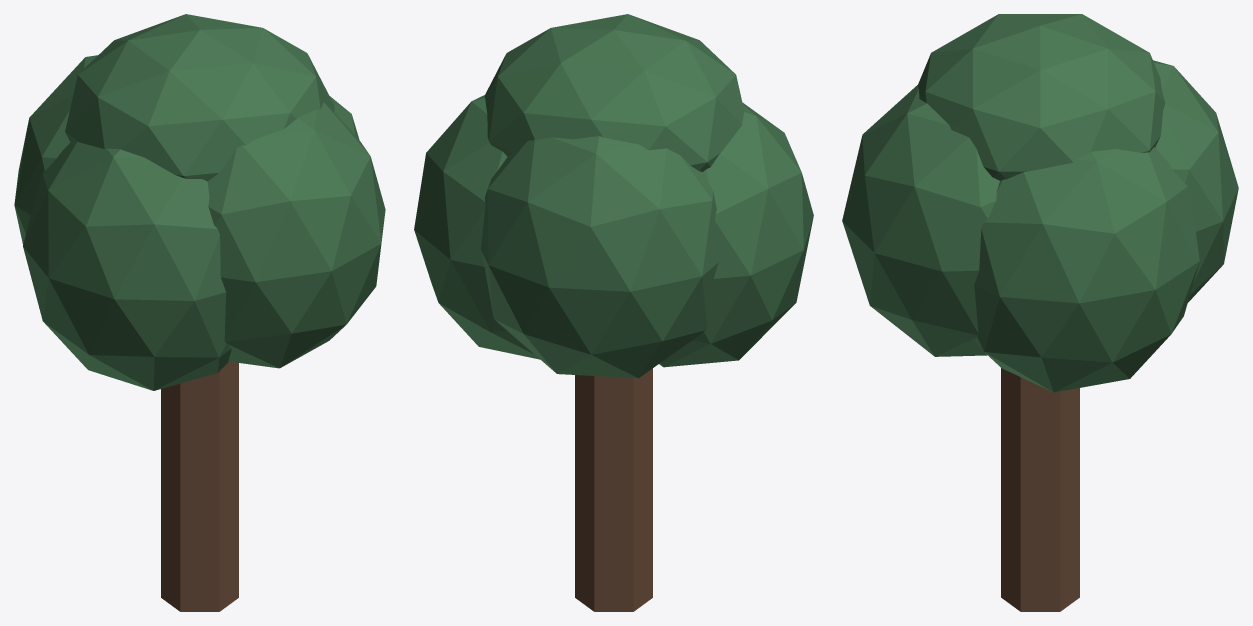
Rendered from tree_b.glb.
3 renders of one model, left to right at view 1: azimuth 30°, elevation 25°; view 2: azimuth 150°, elevation 25°; view 3: azimuth 270°, elevation 25°, orthographic.
Parts seen in each view (by area): view 1: tree_b; view 2: tree_b; view 3: tree_b.
Part boxes in pixels (x1=…): tree_b: x1=14, y1=14, x2=385, y2=611; tree_b: x1=414, y1=14, x2=813, y2=611; tree_b: x1=842, y1=14, x2=1238, y2=611.
Bounding box in the file's own units: 3.52 × 5.6 × 3.52.
